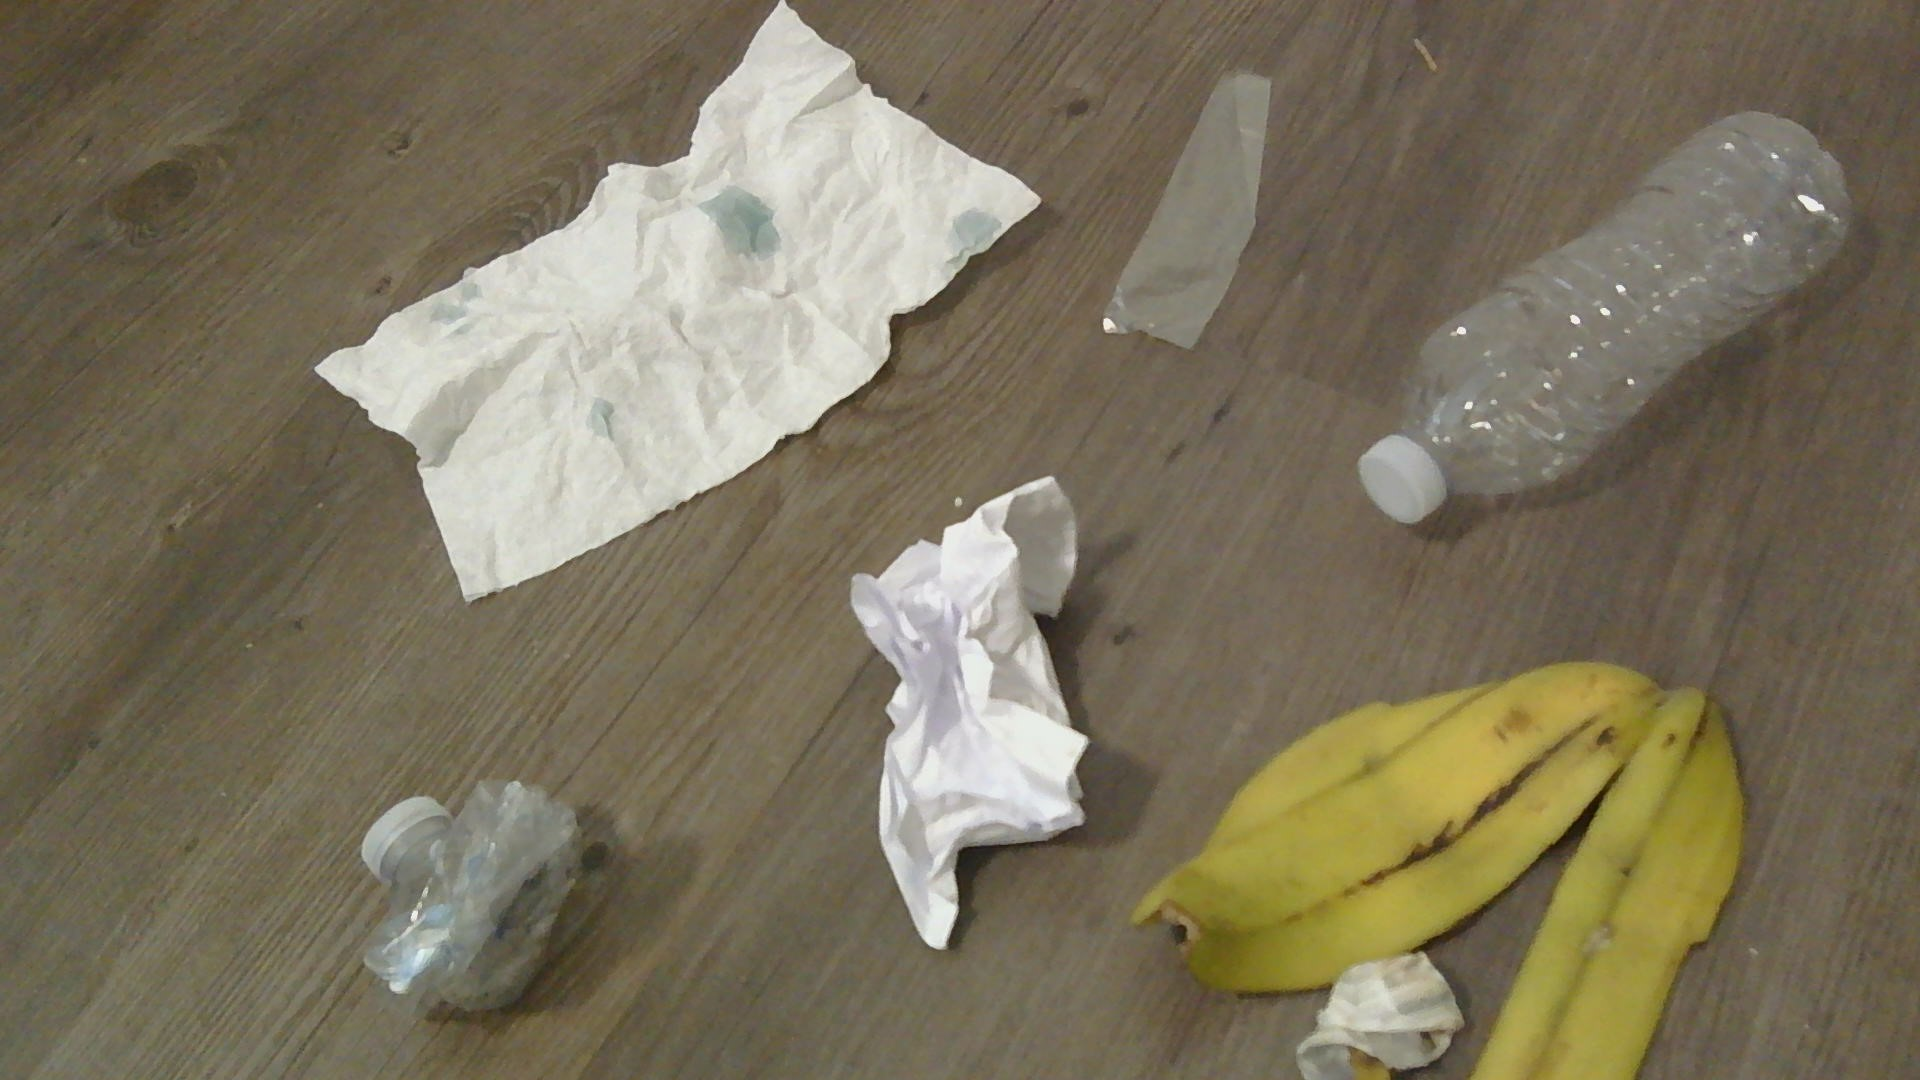banana peel: (1139, 665, 1739, 1077)
bottle: (1357, 109, 1847, 520)
crushed bottle: (353, 774, 603, 1011)
napkin: (306, 0, 1047, 603)
paper: (847, 473, 1083, 951), (1298, 953, 1462, 1079)
plastic piece: (1098, 66, 1275, 351)
